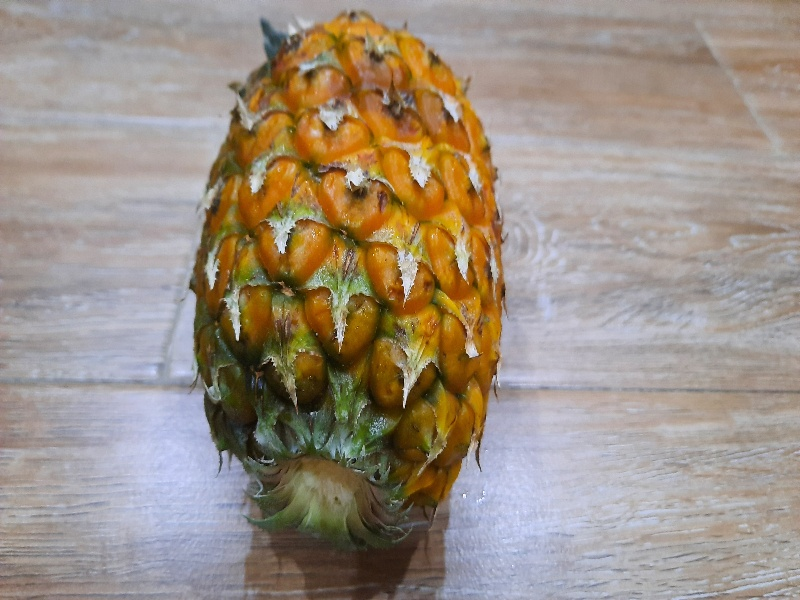fruit: (182, 6, 511, 562)
